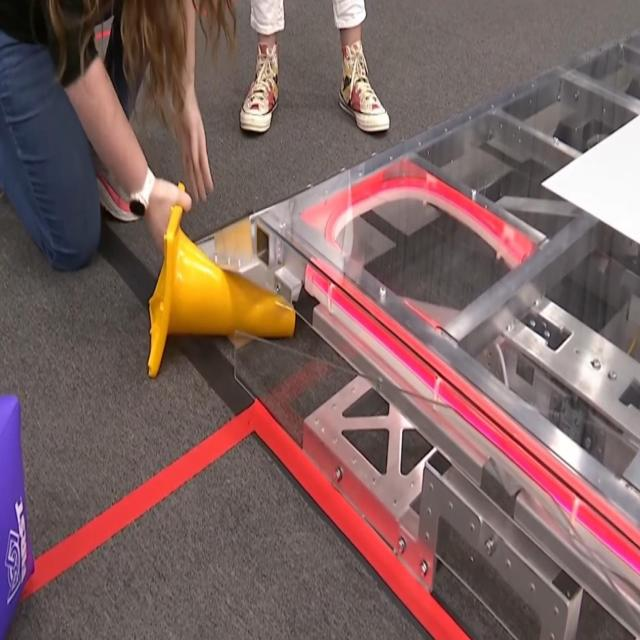frc_cone: (147, 178, 296, 380)
frc_cube: (0, 391, 35, 640)
